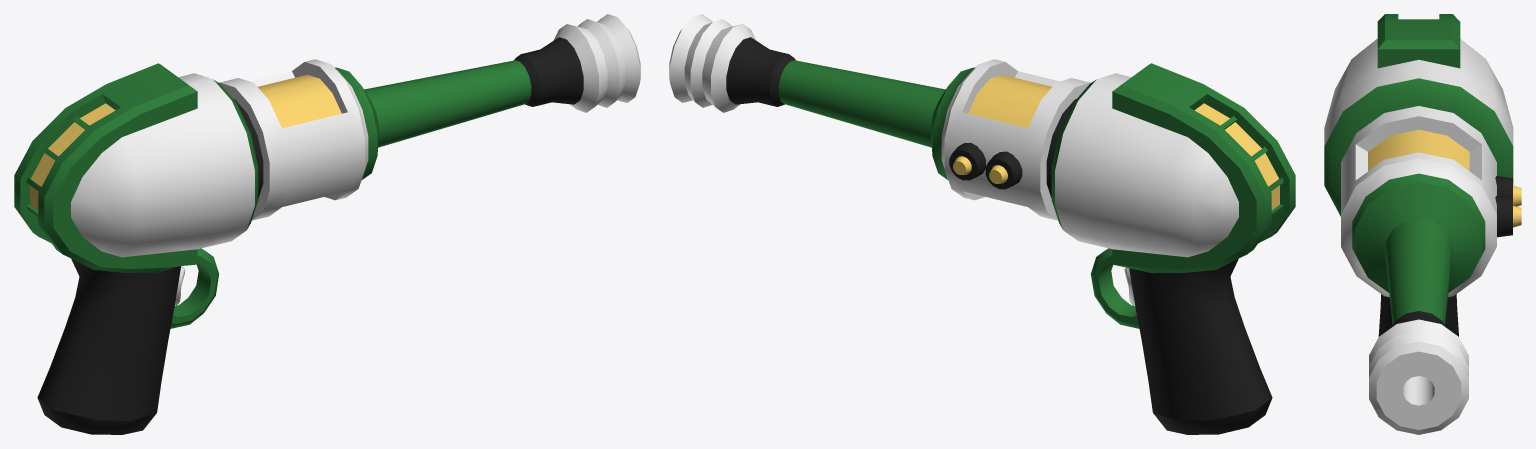
The model's file is Entity_Raygun.FBX.
3 views of the same model, side by side, from view 1: azimuth 30°, elevation 25°; view 2: azimuth 150°, elevation 25°; view 3: azimuth 270°, elevation 25° (orthographic). The views are drawn at different scales.
Parts seen in each view (by area): view 1: Raygun; view 2: Raygun; view 3: Raygun.
Part boxes in pixels (x1=…): Raygun: x1=14, y1=14, x2=640, y2=434; Raygun: x1=669, y1=14, x2=1295, y2=434; Raygun: x1=1324, y1=14, x2=1521, y2=434.
Bounding box in the file's own units: 148 × 81.29 × 37.97.
